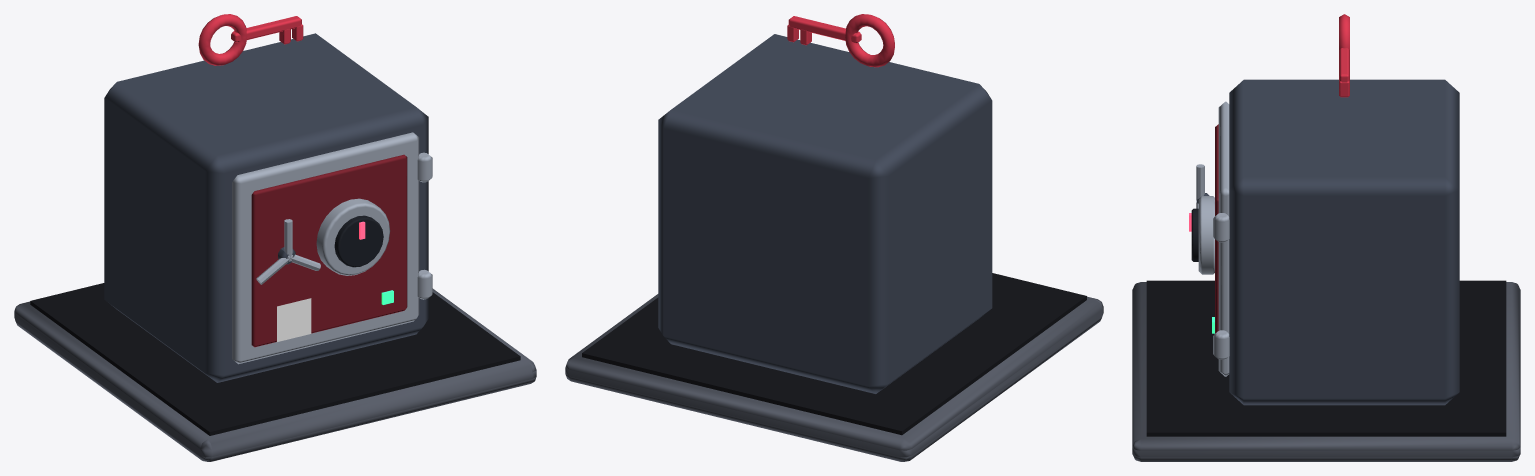
Rendered from kms.glb.
3 views of the same model, side by side, from view 1: azimuth 30°, elevation 25°; view 2: azimuth 150°, elevation 25°; view 3: azimuth 270°, elevation 25° (orthographic). The views are drawn at different scales.
Parts seen in each view (by area): view 1: body.steel, body.rubber, body.accent_dark, body.steel_light, body.concrete, bob_key.accent, body.bezel, body.badge; view 2: body.steel, body.rubber, body.concrete, bob_key.accent; view 3: body.steel, body.rubber, body.concrete, body.steel_light, bob_key.accent, body.accent_dark, body.bezel.
Part boxes in pixels (x1,y1,x2,y2): body.steel: [104, 33, 428, 382]; body.rubber: [30, 283, 520, 435]; body.accent_dark: [251, 154, 407, 347]; body.steel_light: [232, 132, 432, 364]; body.concrete: [14, 288, 536, 461]; bob_key.accent: [198, 14, 303, 65]; body.bezel: [334, 215, 383, 267]; body.badge: [277, 298, 311, 341]; body.steel: [658, 34, 992, 393]; body.rubber: [582, 273, 1086, 435]; body.concrete: [565, 294, 1103, 461]; bob_key.accent: [787, 14, 894, 67]; body.steel: [1197, 79, 1459, 405]; body.rubber: [1146, 280, 1506, 436]; body.concrete: [1132, 282, 1520, 461]; body.steel_light: [1196, 101, 1229, 376]; bob_key.accent: [1339, 14, 1349, 97]; body.accent_dark: [1215, 124, 1218, 333]; body.bezel: [1191, 208, 1198, 261].
Size of the model in its own units: 1.08 by 1.06 by 1.08.
